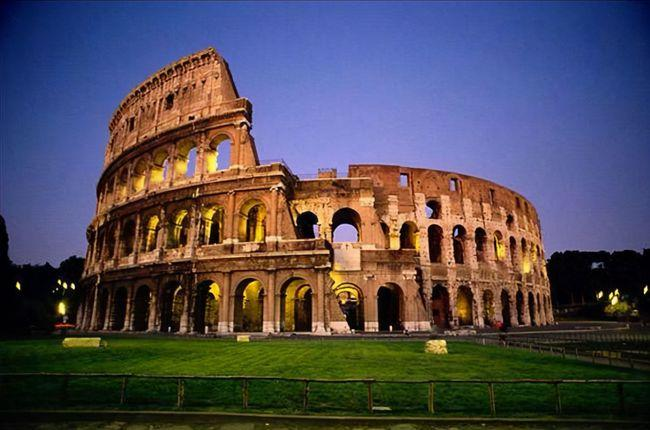buildings: (76, 51, 554, 353)
